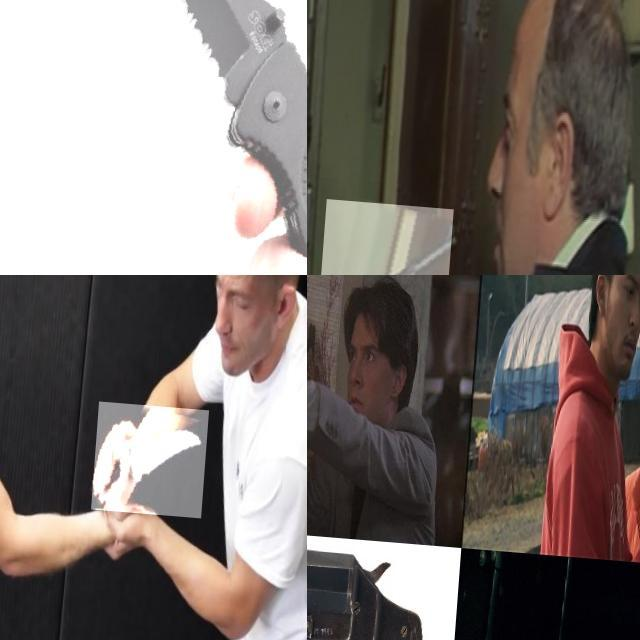-: (23, 0, 307, 275), (98, 396, 214, 510)
gun-knife-thesis - v11 Yolov5 augmented: (316, 194, 459, 275), (307, 275, 347, 397)
